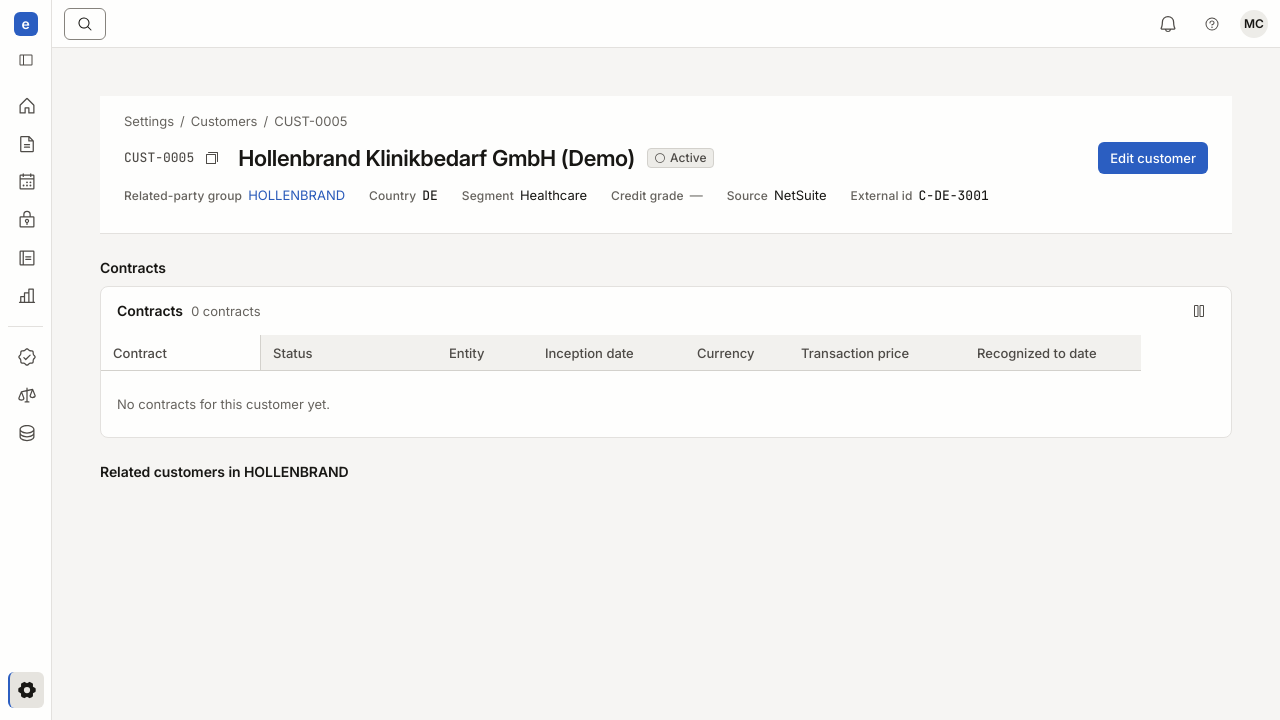
SF-15:customer › Edit customer patches the changed fields with If-Match
Step 1. Click the button "Edit customer" → x=1153, y=158, box top-left (1098, 142), bottom-right (1208, 174)
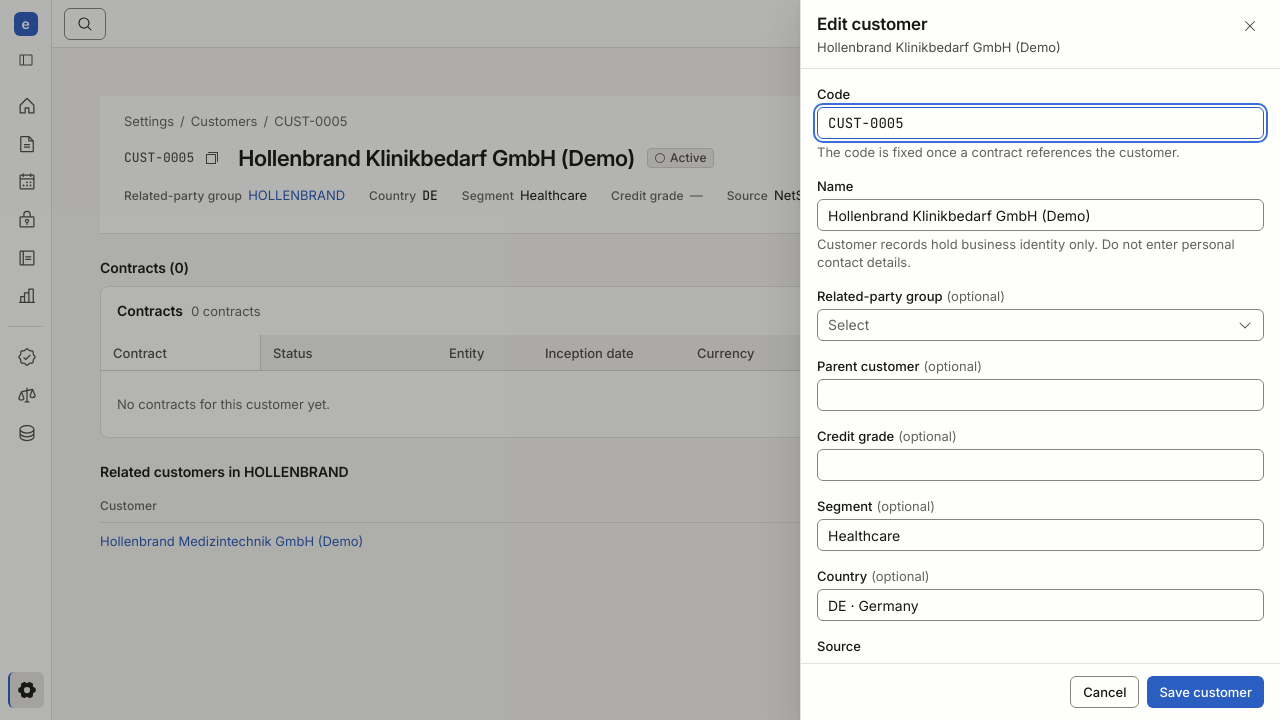
Step 2. Replace the text in the field labelled "Segment(optional)" with "Hospitals" → x=1040, y=535, box top-left (817, 519), bottom-right (1264, 551)
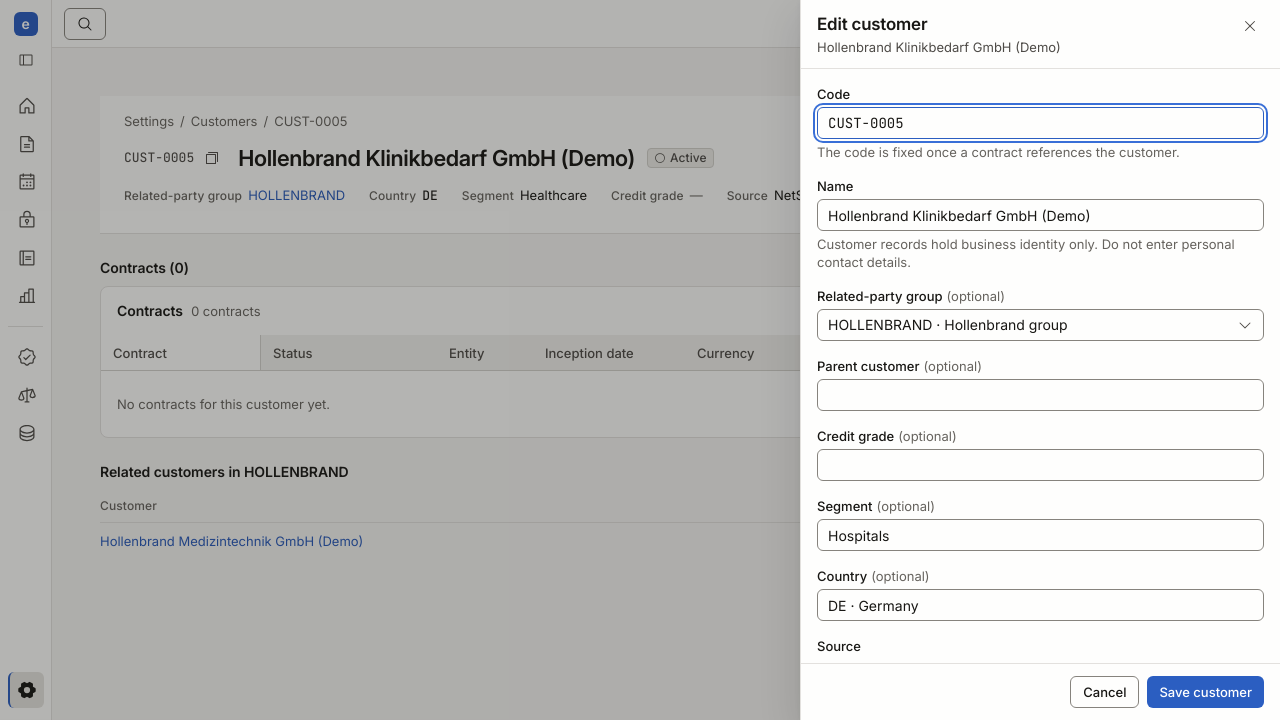
Step 3. Click the button "Save customer" → x=1206, y=692, box top-left (1147, 676), bottom-right (1264, 708)
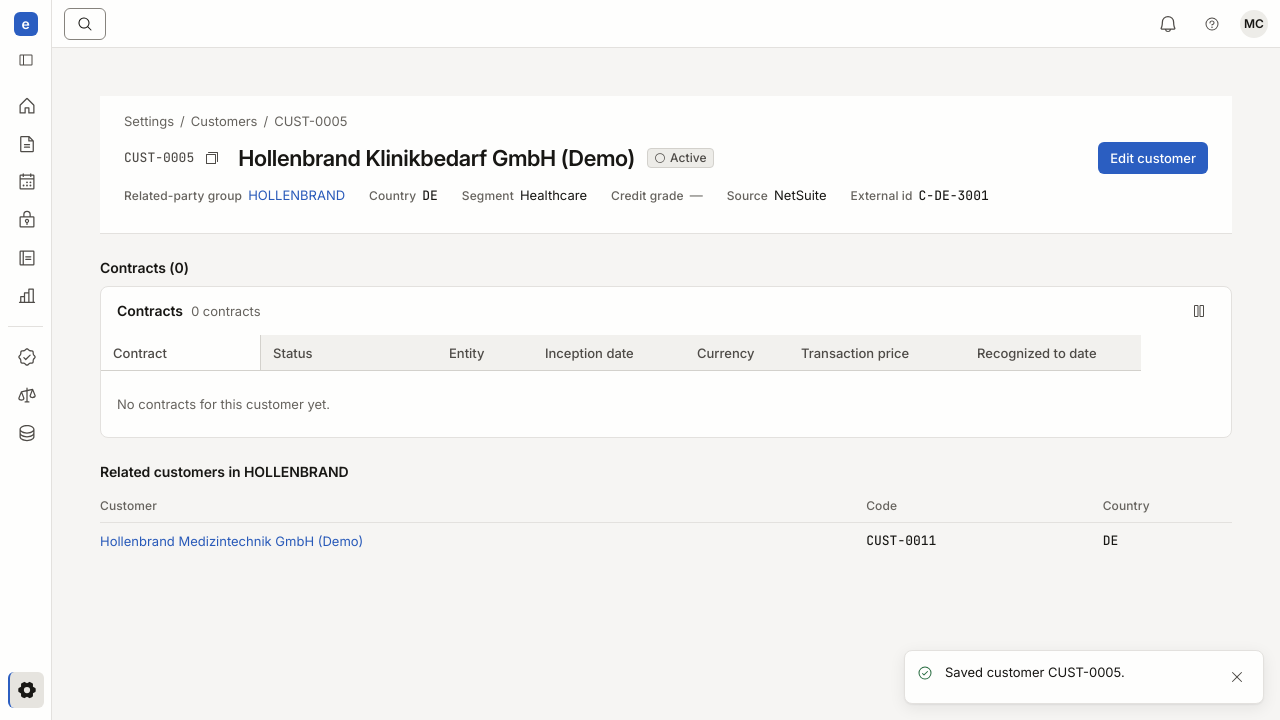
Expected: the text "Saved customer CUST-0005." is shown, top-left (945, 663), bottom-right (1125, 681)
